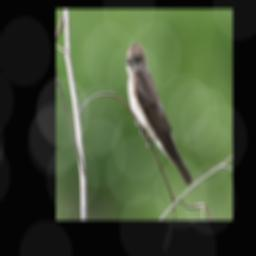Swallow: (125, 41, 195, 187)
